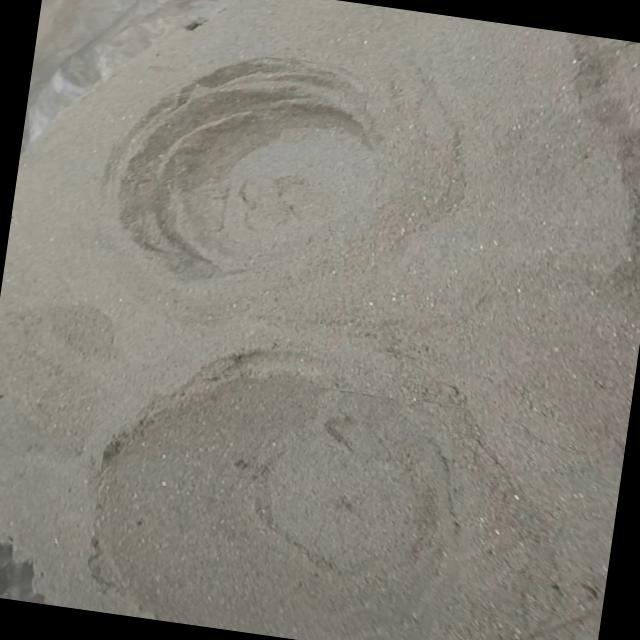C20: (91, 376, 450, 629), (112, 57, 361, 280)
